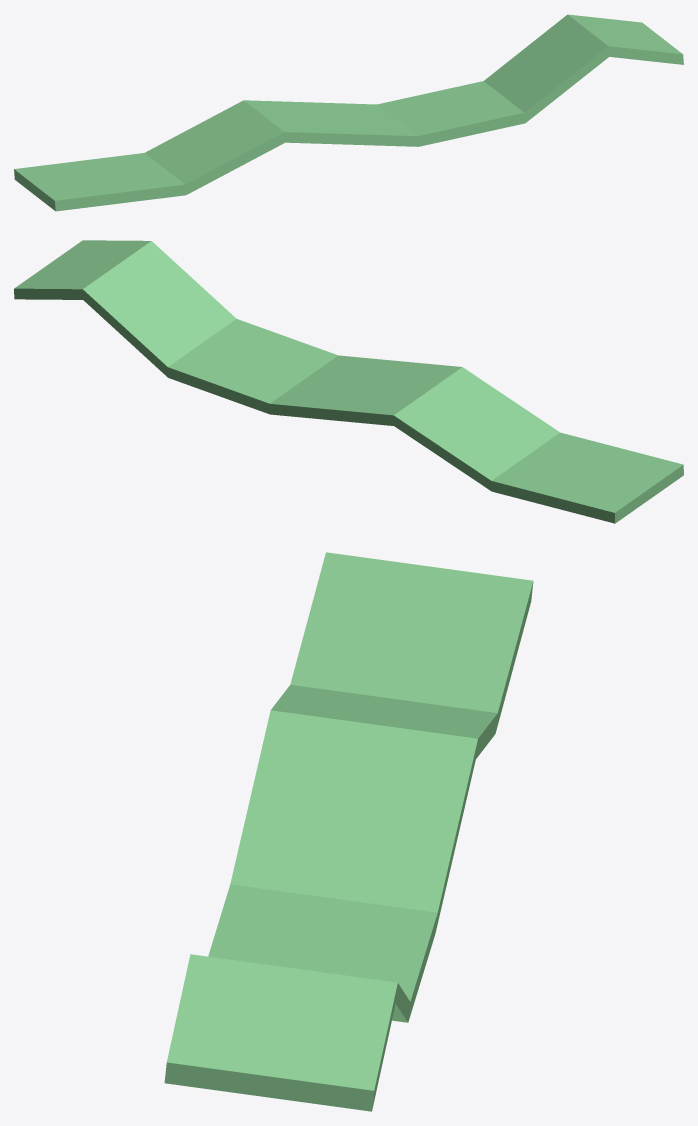
The model's file is lettuce single.fbx.
3 views of the same model, one above another, from view 1: azimuth 30°, elevation 25°; view 2: azimuth 150°, elevation 25°; view 3: azimuth 270°, elevation 25° (orthographic). The views are drawn at different scales.
Parts seen in each view (by area): view 1: Cube.006; view 2: Cube.006; view 3: Cube.006.
Boxes of the visible parts, x1=… form: Cube.006: x1=14, y1=14, x2=683, y2=211; Cube.006: x1=14, y1=240, x2=683, y2=523; Cube.006: x1=164, y1=552, x2=533, y2=1111.
Bounding box in the file's own units: 51.01 × 6.4 × 13.59.
